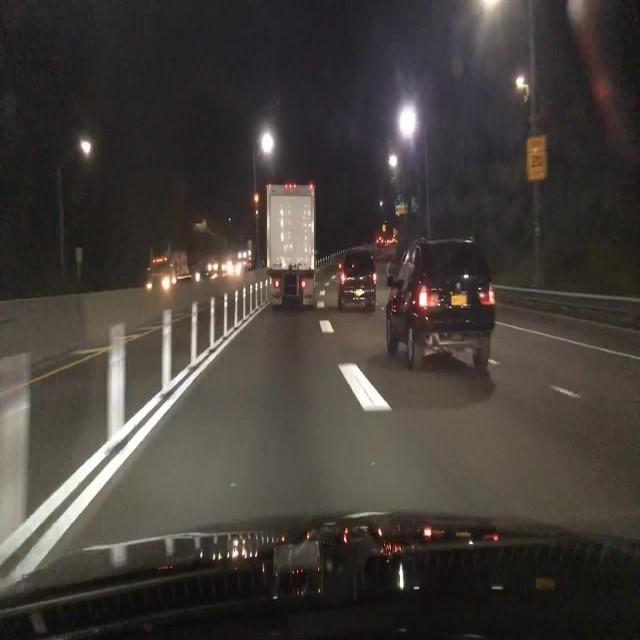normal: (387, 238, 499, 373), (250, 165, 333, 324), (337, 275, 376, 311)
